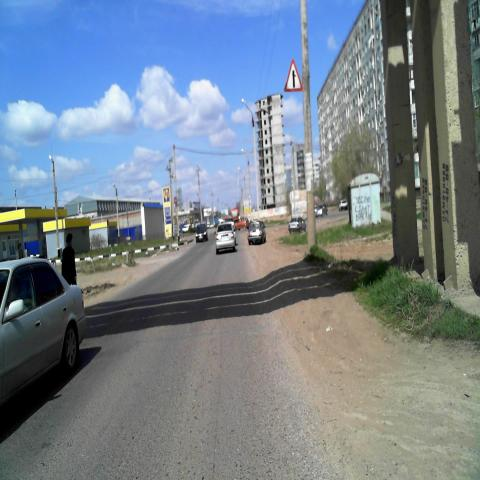2_3_2: (283, 56, 303, 93)
